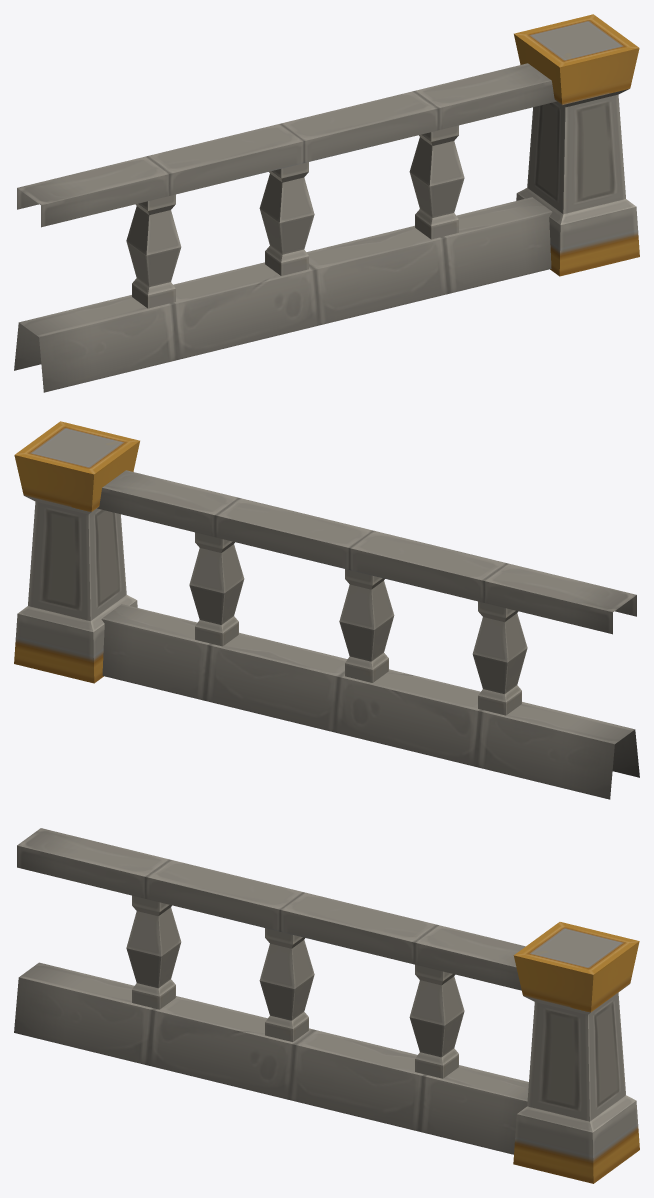
Rendered from sea_fence.FBX.
The picture shows the model from 3 angles, top to bottom: view 1: azimuth 30°, elevation 25°; view 2: azimuth 150°, elevation 25°; view 3: azimuth 330°, elevation 25°; orthographic projection.
Parts seen in each view (by area): view 1: Object116; view 2: Object116; view 3: Object116.
Part boxes in pixels (left/top/right/bottom): Object116: left=14, top=14, right=639, bottom=392; Object116: left=14, top=421, right=639, bottom=799; Object116: left=14, top=828, right=639, bottom=1183.
Size of the model in its own units: 211 by 28.86 by 71.75.
